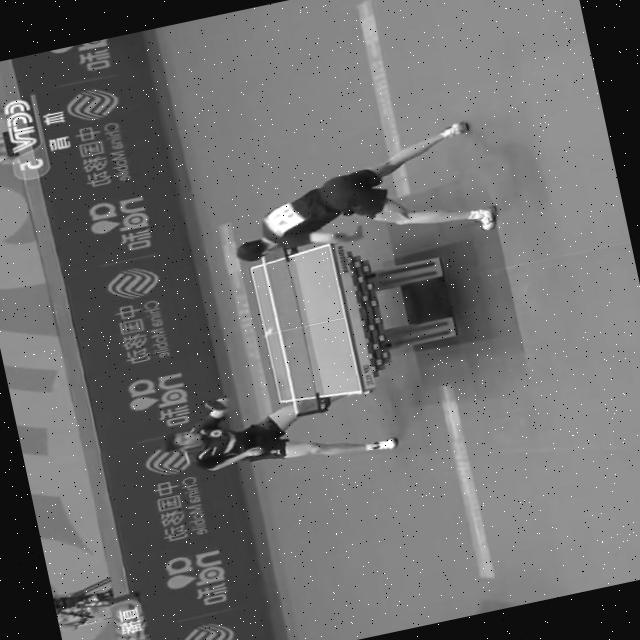ping-pong-ball: (258, 326, 274, 338)
